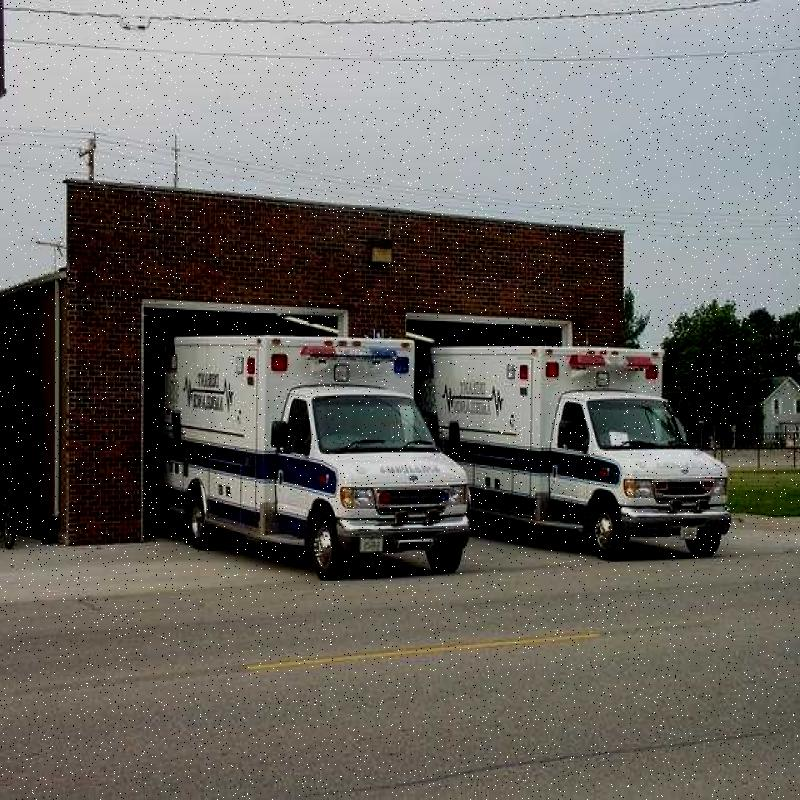AmbulanceSiren: (296, 330, 420, 371), (548, 343, 672, 383)
